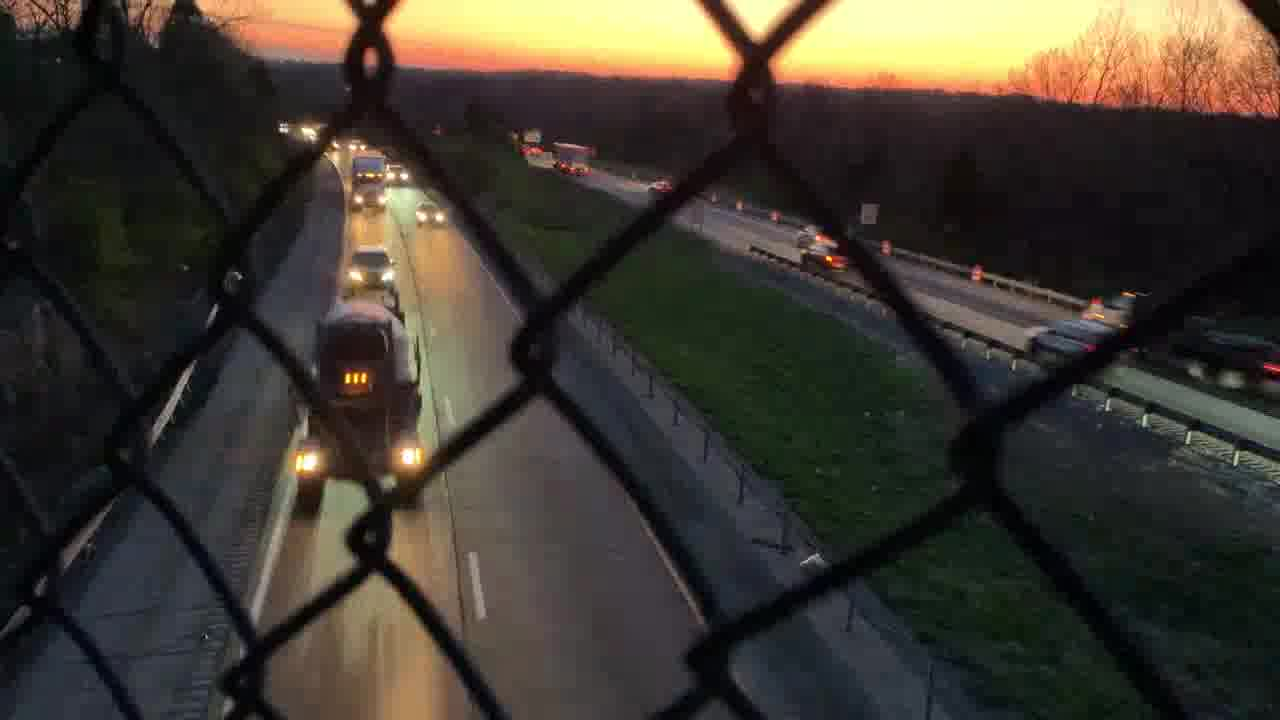heavyTruck: (284, 293, 421, 513), (341, 150, 392, 212)
largeCar: (1012, 316, 1120, 373)
smallCar: (345, 240, 397, 293), (411, 200, 446, 233)
